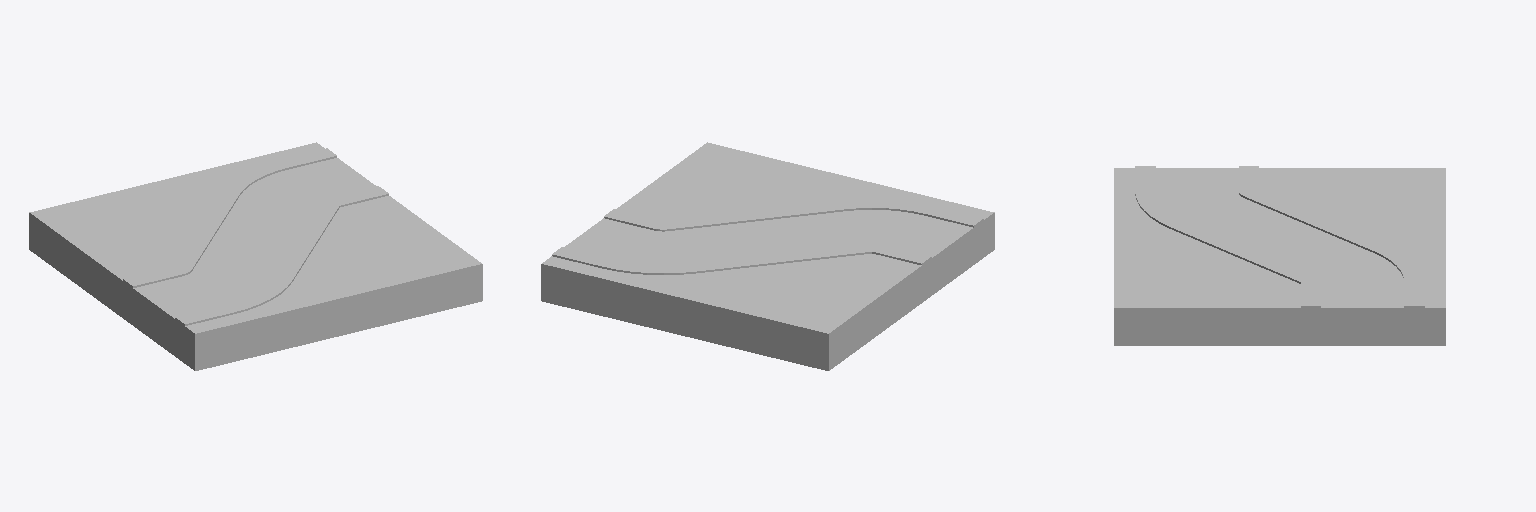
Rendered from track-right-left-large.obj.
The picture shows the model from 3 angles: view 1: azimuth 30°, elevation 25°; view 2: azimuth 150°, elevation 25°; view 3: azimuth 270°, elevation 25°; orthographic projection.
Parts seen in each view (by area): view 1: track-right-left-large_Cube.849; view 2: track-right-left-large_Cube.849; view 3: track-right-left-large_Cube.849.
Boxes of the visible parts, box(x1,y1,x2,y2) form: track-right-left-large_Cube.849: box(29, 142, 482, 370); track-right-left-large_Cube.849: box(541, 142, 994, 370); track-right-left-large_Cube.849: box(1114, 166, 1445, 345).
Size of the model in its own units: 16 by 2.1 by 16.